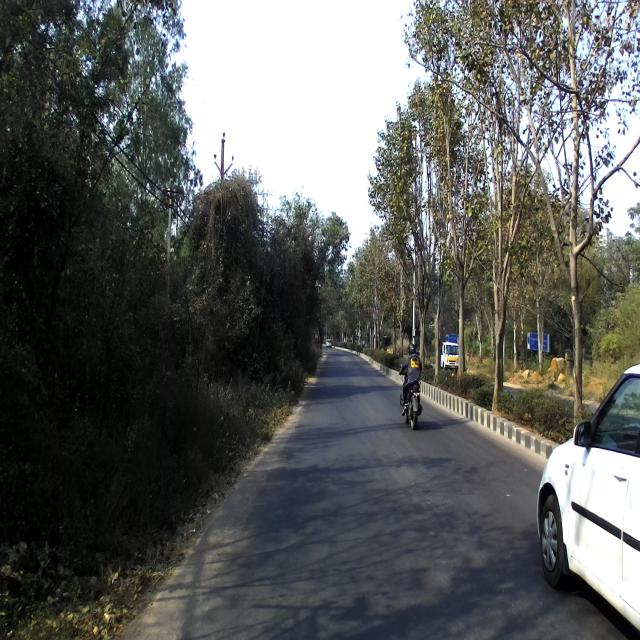car ahead at: (539, 352, 640, 640)
